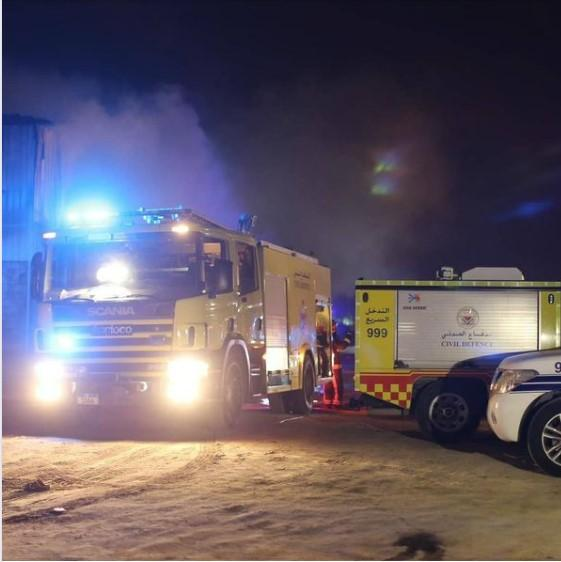firetruck_on: (33, 204, 334, 431)
